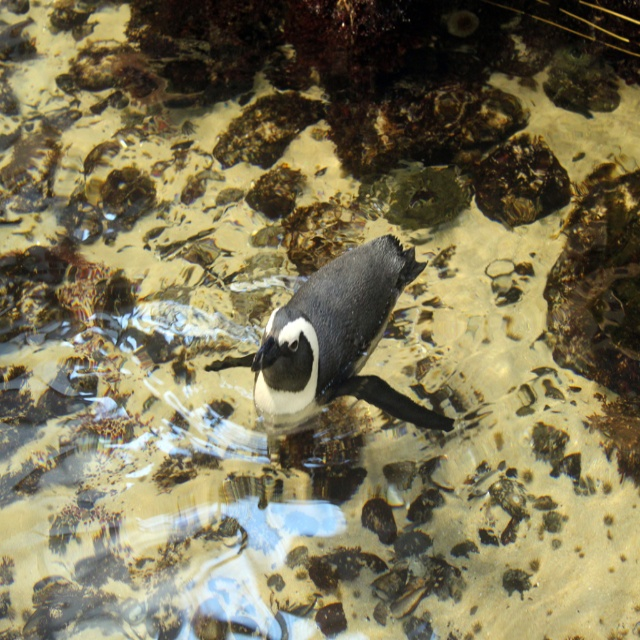Penguin: (219, 226, 418, 427)
